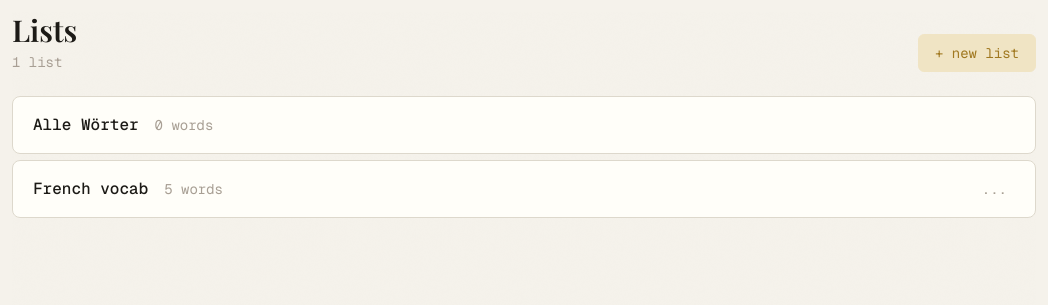
Test: ListRow — dropdown open/close › clicking "..." twice closes the dropdown (toggle)
What coordinates should you click on to do the following:
click the button named "List options"
I would click on:
 (994, 189)
Its box is [974,177,1015,201].
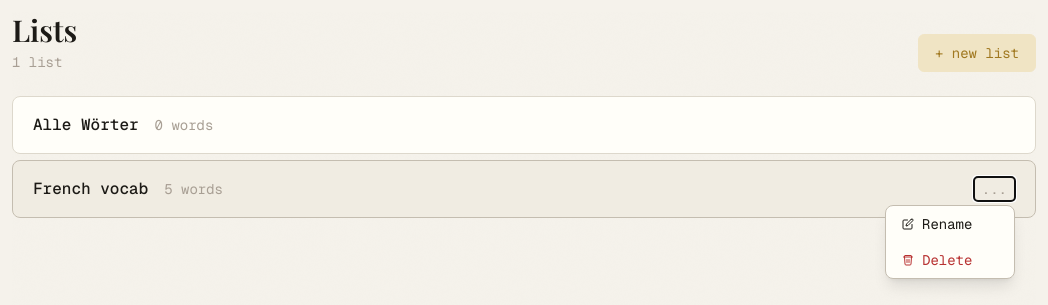
Expected: the button "Rename" is shown, [886,206,1014,242]
What coordinates should you click on to do the following:
click the button named "List options"
I would click on:
 (994, 189)
Its box is [974,177,1015,201].
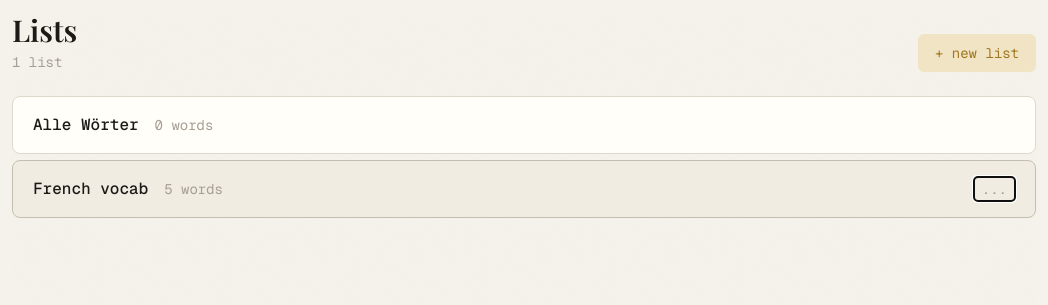
Expected: the button "Rename" is gone
